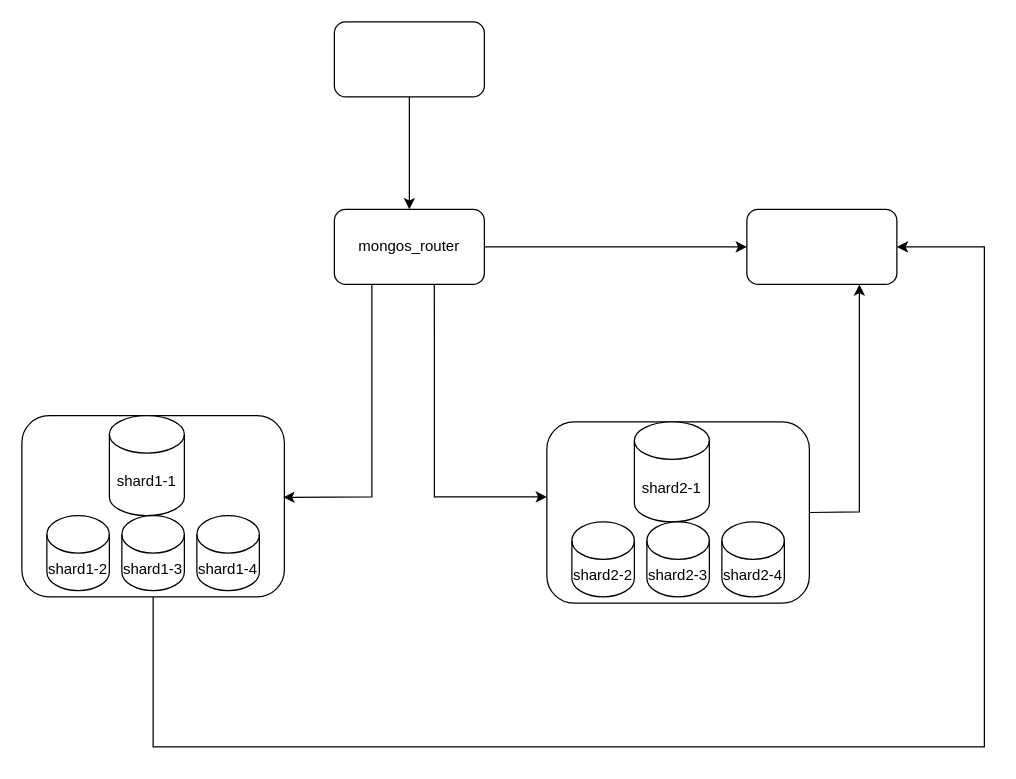
The diagram is 1016 pixels wide and 779 high, and some of its shapes have lost their labels. The shapes that lost their labels are listed below. From the top down, each one's centre as x and y in pixels, then its label:
At point (408, 59): "pymongo-api".
At point (821, 246): "configSrv".
